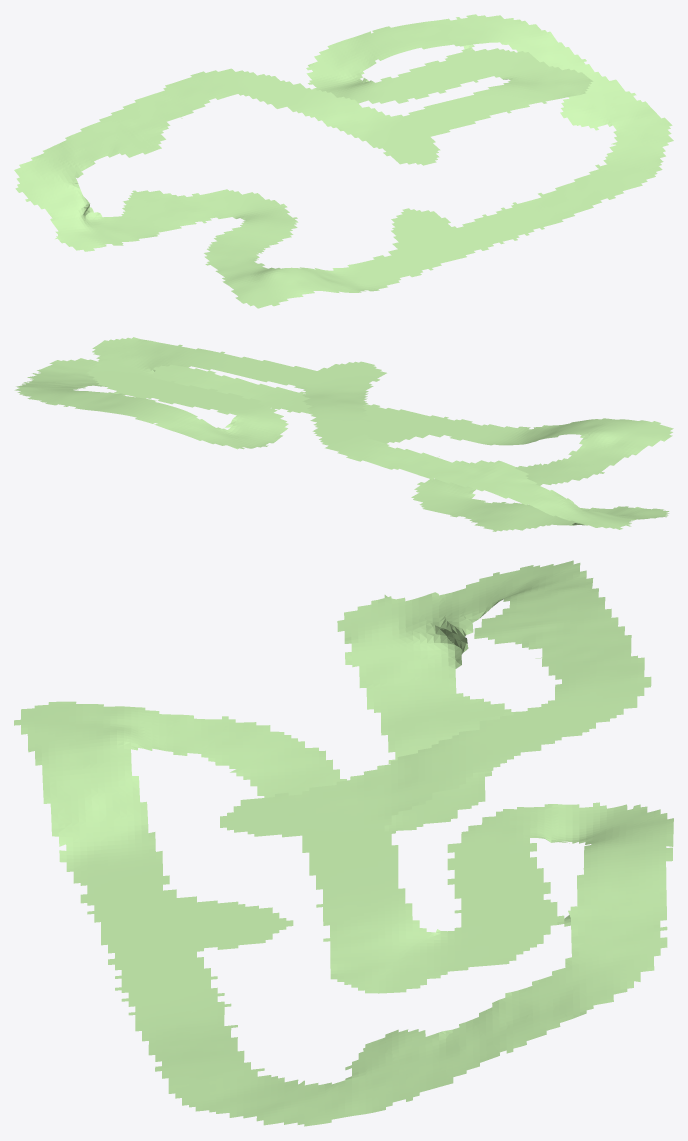
File: sampleMesh-textured-rough.dae
3 views of the same model, one above another, from view 1: azimuth 30°, elevation 25°; view 2: azimuth 150°, elevation 25°; view 3: azimuth 270°, elevation 25° (orthographic). The views are drawn at different scales.
Visible parts, largest first — view 1: node; view 2: node; view 3: node.
Boxes of the visible parts, <box> form: node: <box>14,14,673,308</box>; node: <box>14,337,673,531</box>; node: <box>14,560,673,1126</box>.
Bounding box in the file's own units: 8.93 × 4.91 × 1.4.
